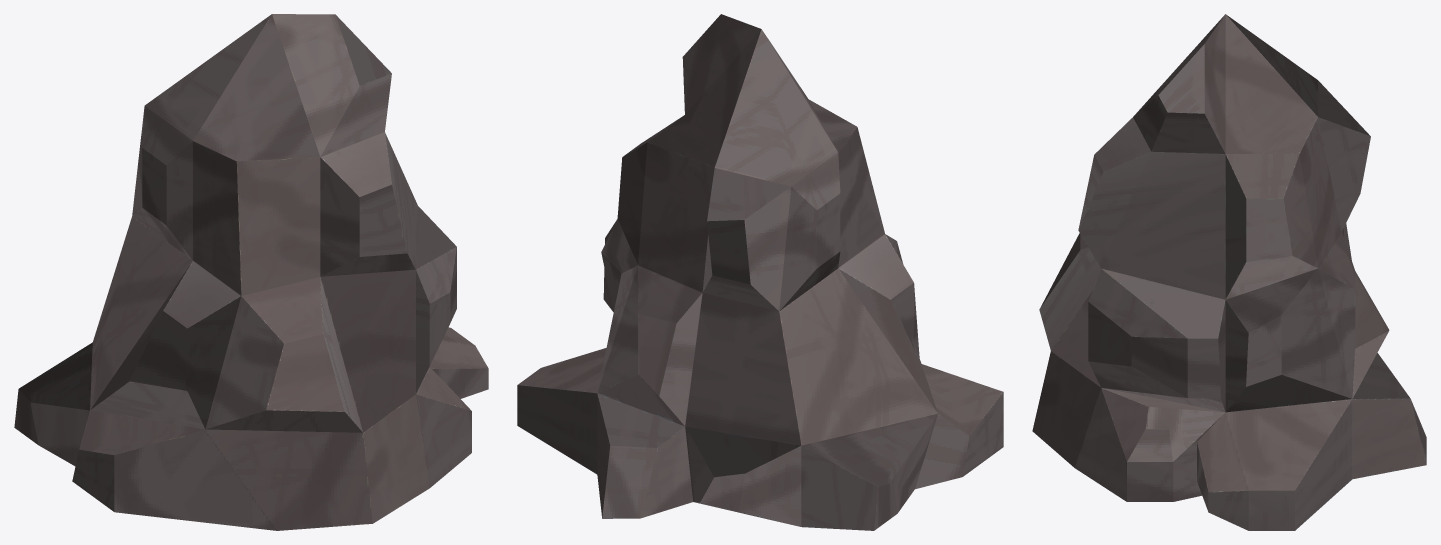
The model's file is rock_compressed.glb.
3 renders of one model, left to right at view 1: azimuth 30°, elevation 25°; view 2: azimuth 150°, elevation 25°; view 3: azimuth 270°, elevation 25°, orthographic. The views are drawn at different scales.
Visible parts, largest first — view 1: mesh; view 2: mesh; view 3: mesh.
Part boxes in pixels (<box>): mesh: <box>14,14,488,530</box>; mesh: <box>517,14,1003,530</box>; mesh: <box>1032,14,1426,530</box>.
Bounding box in the file's own units: 10.94 × 11.04 × 9.31.
1 material, 1 textured.
